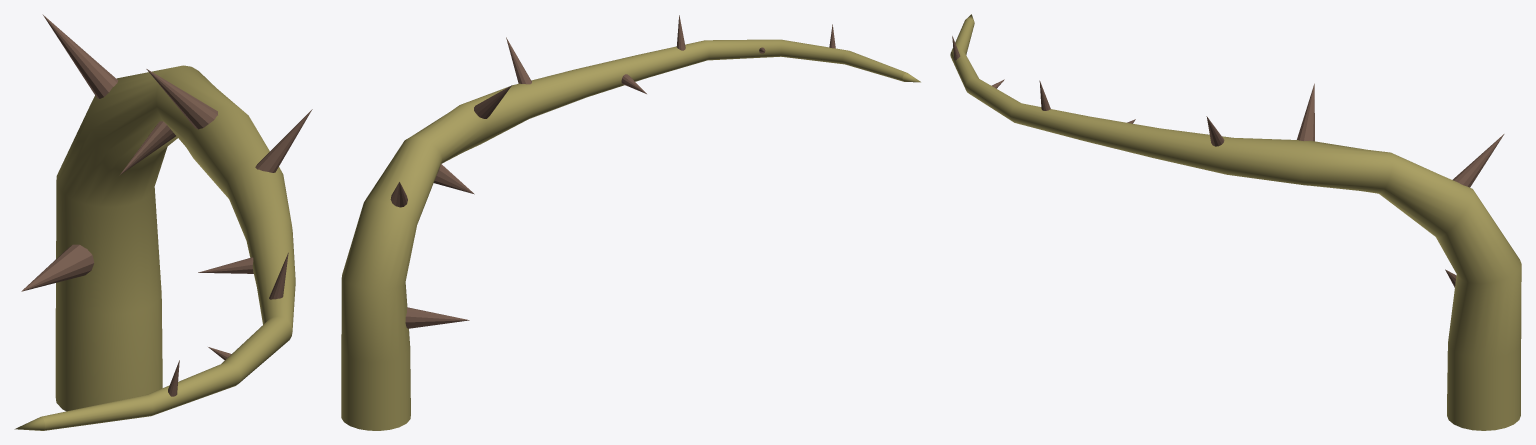
Rendered from vine_thorns_2.fbx.
3 views of the same model, side by side, from view 1: azimuth 30°, elevation 25°; view 2: azimuth 150°, elevation 25°; view 3: azimuth 270°, elevation 25° (orthographic). The views are drawn at different scales.
Parts seen in each view (by area): view 1: polySurface12; view 2: polySurface12; view 3: polySurface12.
Boxes of the visible parts, x1,y1,x2,y2 form: polySurface12: [14, 14, 312, 430]; polySurface12: [341, 15, 920, 430]; polySurface12: [950, 14, 1521, 430].
Bounding box in the file's own units: 7.87 × 6.45 × 11.01.
